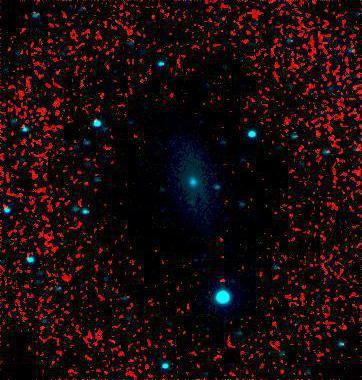star: (206, 266, 236, 296)
